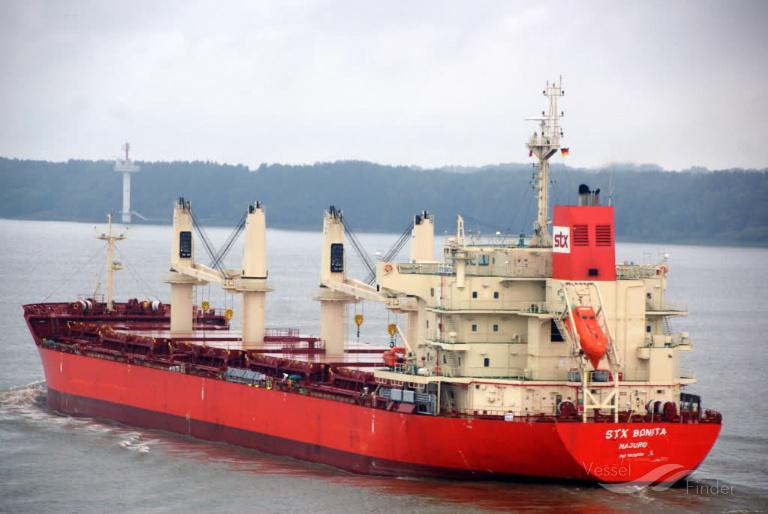OCR: (600, 426, 676, 468)
